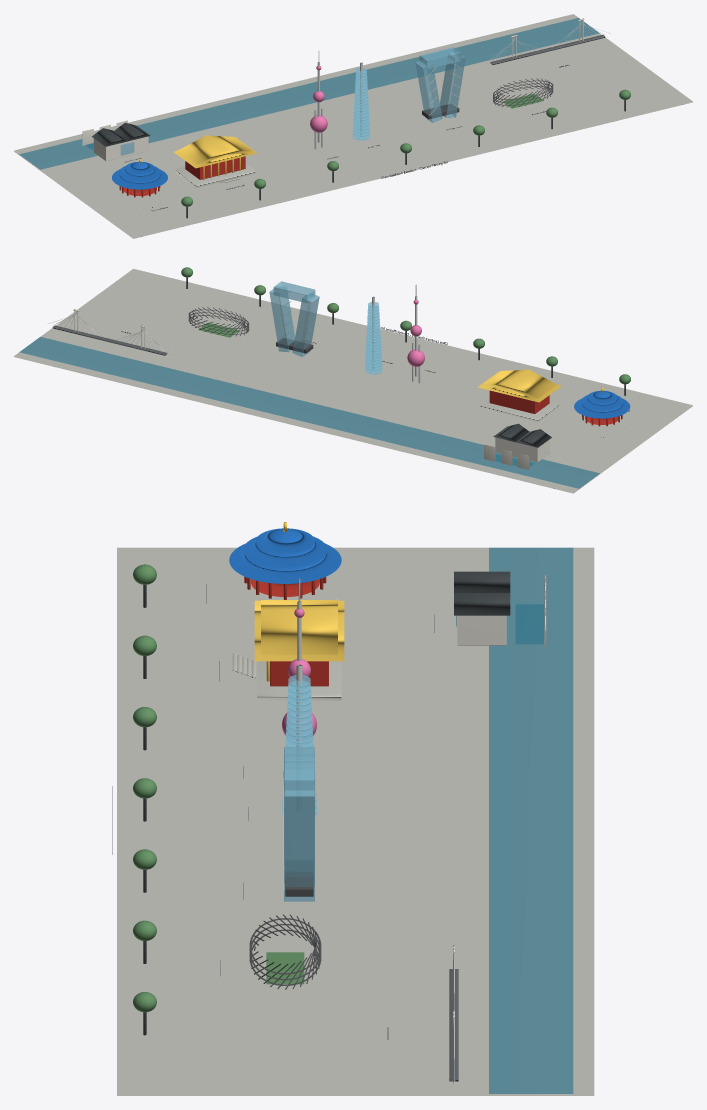
Rendered from china_landmarks_exterior.glb.
3 views of the same model, one above another, from view 1: azimuth 30°, elevation 25°; view 2: azimuth 150°, elevation 25°; view 3: azimuth 270°, elevation 25° (orthographic). The views are drawn at different scales.
Parts seen in each view (by area): view 1: site_plaza, north_water_band, forbidden_upper_roof, cctv_right_leaning_tower, cctv_left_leaning_tower, suzhou_museum_wall_main, forbidden_main_hall, forbidden_terrace_base, cctv_top_bridge, temple_heaven_lower_roof, temple_heaven_terrace_1, hzmb_road_deck (+5 smaller); view 2: site_plaza, north_water_band, forbidden_upper_roof, cctv_right_leaning_tower, cctv_left_leaning_tower, forbidden_main_hall, suzhou_museum_wall_main, forbidden_terrace_base, cctv_top_bridge, temple_heaven_lower_roof, temple_heaven_terrace_1, hzmb_road_deck (+6 smaller); view 3: site_plaza, north_water_band, forbidden_upper_roof, cctv_right_leaning_tower, cctv_left_leaning_tower, temple_heaven_lower_roof, forbidden_terrace_base, cctv_top_bridge, suzhou_museum_wall_main, forbidden_lower_eave, temple_heaven_middle_roof, suzhou_museum_folded_roof_b (+7 smaller).
Part boxes in pixels (x1,y1,x2,y2): site_plaza: [14, 14, 692, 238]; north_water_band: [19, 18, 599, 169]; forbidden_upper_roof: [178, 135, 252, 164]; cctv_right_leaning_tower: [440, 52, 465, 117]; cctv_left_leaning_tower: [415, 58, 442, 122]; suzhou_museum_wall_main: [93, 136, 148, 161]; forbidden_main_hall: [185, 156, 245, 179]; forbidden_terrace_base: [175, 163, 255, 187]; cctv_top_bridge: [419, 47, 461, 68]; temple_heaven_lower_roof: [112, 169, 167, 189]; temple_heaven_terrace_1: [106, 183, 173, 209]; hzmb_road_deck: [490, 35, 605, 64]; site_plaza: [14, 268, 692, 493]; north_water_band: [19, 337, 599, 488]; forbidden_upper_roof: [482, 369, 556, 398]; cctv_right_leaning_tower: [269, 286, 294, 352]; cctv_left_leaning_tower: [292, 292, 319, 357]; forbidden_main_hall: [489, 390, 549, 413]; suzhou_museum_wall_main: [495, 437, 549, 462]; forbidden_terrace_base: [480, 397, 559, 421]; cctv_top_bridge: [273, 281, 315, 303]; temple_heaven_lower_roof: [574, 398, 630, 418]; temple_heaven_terrace_1: [568, 412, 635, 438]; hzmb_road_deck: [52, 325, 167, 355]; site_plaza: [117, 547, 594, 1095]; north_water_band: [489, 547, 573, 1093]; forbidden_upper_roof: [261, 600, 337, 654]; cctv_right_leaning_tower: [284, 783, 314, 901]; cctv_left_leaning_tower: [284, 755, 314, 884]; temple_heaven_lower_roof: [229, 543, 341, 583]; forbidden_terrace_base: [257, 661, 341, 700]; cctv_top_bridge: [284, 747, 314, 796]; suzhou_museum_wall_main: [457, 615, 506, 645]; forbidden_lower_eave: [254, 600, 344, 661]; temple_heaven_middle_roof: [243, 536, 327, 567]; suzhou_museum_folded_roof_b: [454, 593, 510, 615].
Size of the model in its own units: 92.31 by 15.54 by 34.31.
